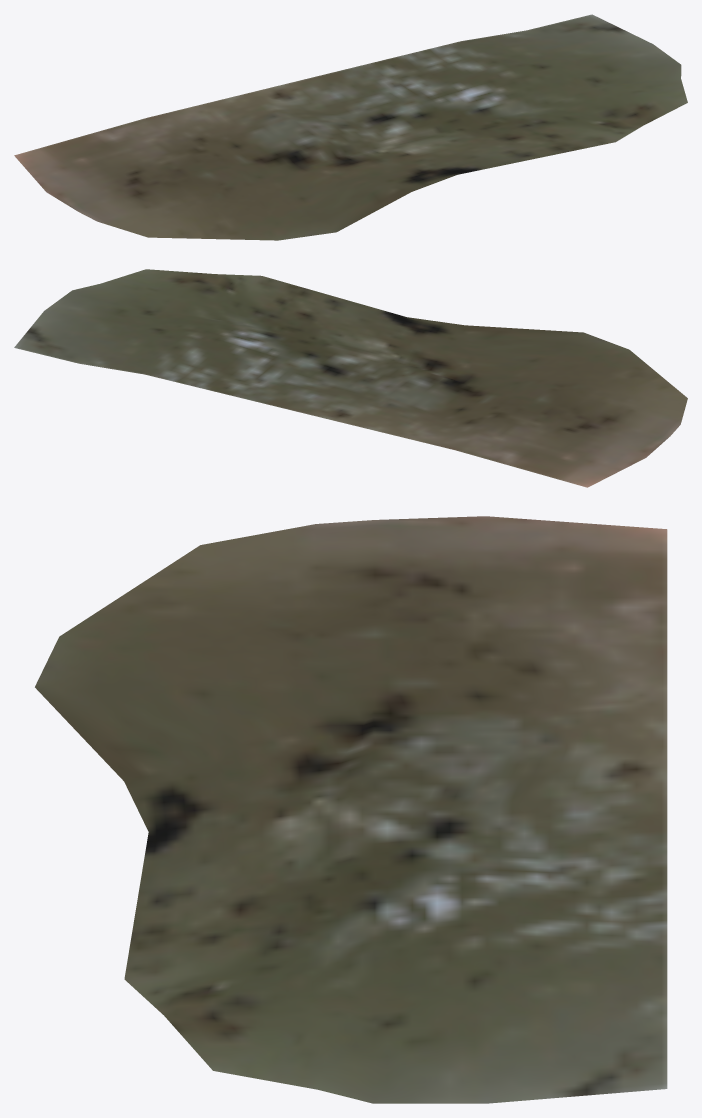
The model's file is dirty_bathroom_water.fbx.
3 views of the same model, one above another, from view 1: azimuth 30°, elevation 25°; view 2: azimuth 150°, elevation 25°; view 3: azimuth 270°, elevation 25° (orthographic). The views are drawn at different scales.
Visible parts, largest first — view 1: dirty_bathrom_water; view 2: dirty_bathrom_water; view 3: dirty_bathrom_water.
Boxes of the visible parts, <box> form: dirty_bathrom_water: <box>14,14,687,240</box>; dirty_bathrom_water: <box>14,269,687,487</box>; dirty_bathrom_water: <box>35,516,667,1103</box>.
Size of the model in its own units: 71 by 1.1 by 32.31.
